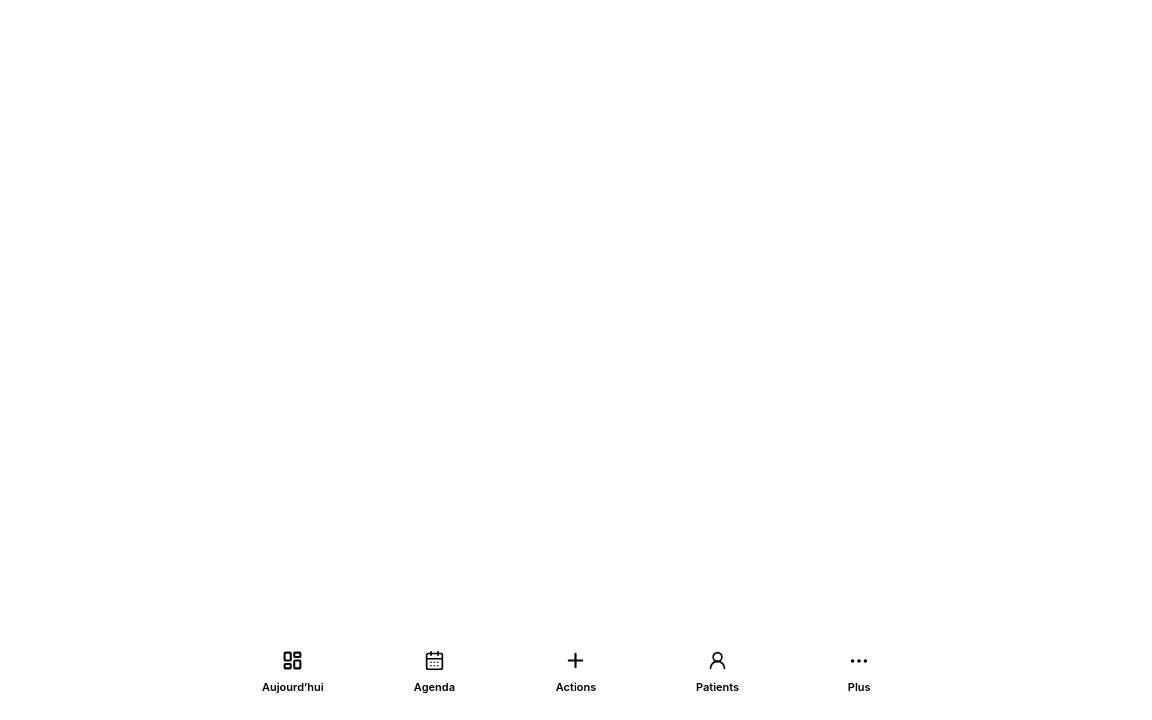
Test: Digital Crown Pocket canonical navigation › gives secretary the same bounded Pocket secondary shell
Check: the button with aria-label "Ouvrir les actions rapides" is disabled, box 505,643 -> 647,697
Click the button "Plus" at (859, 670), box 788,643 -> 930,697
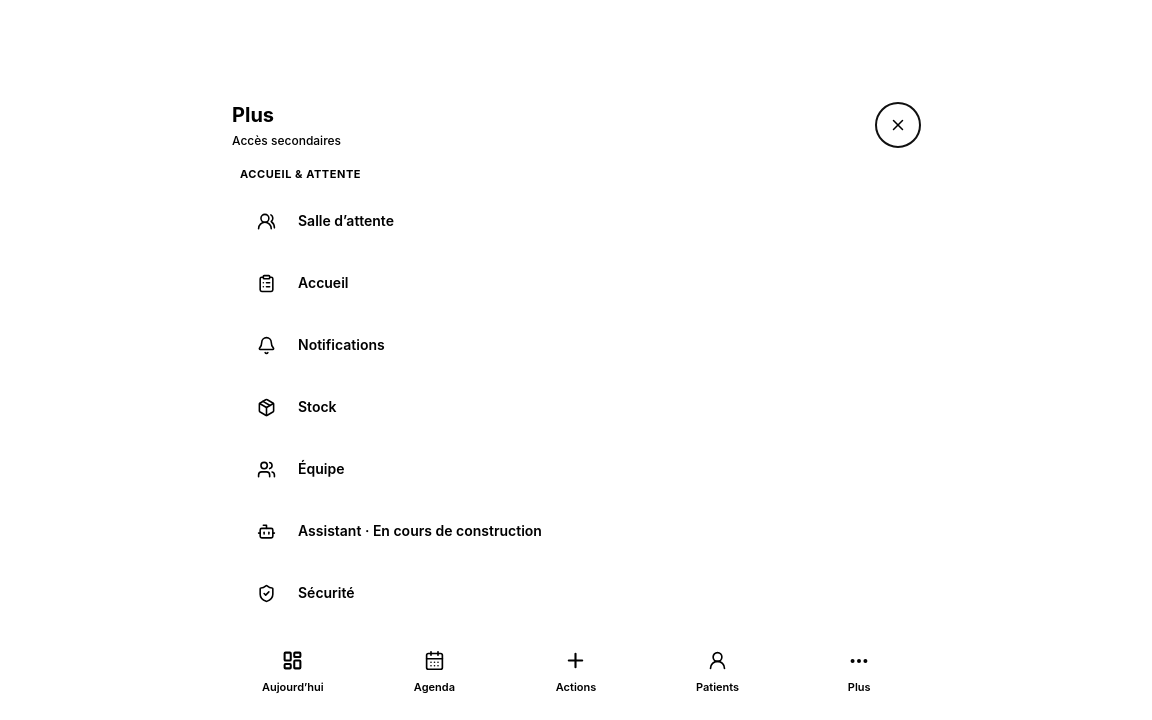
Check: the text "Salle d’attente" is shown, box 298,212 -> 394,230
Check: the text "Notifications" is shown, box 298,336 -> 385,354
Check: the text "Accueil" is shown, box 298,274 -> 348,292
